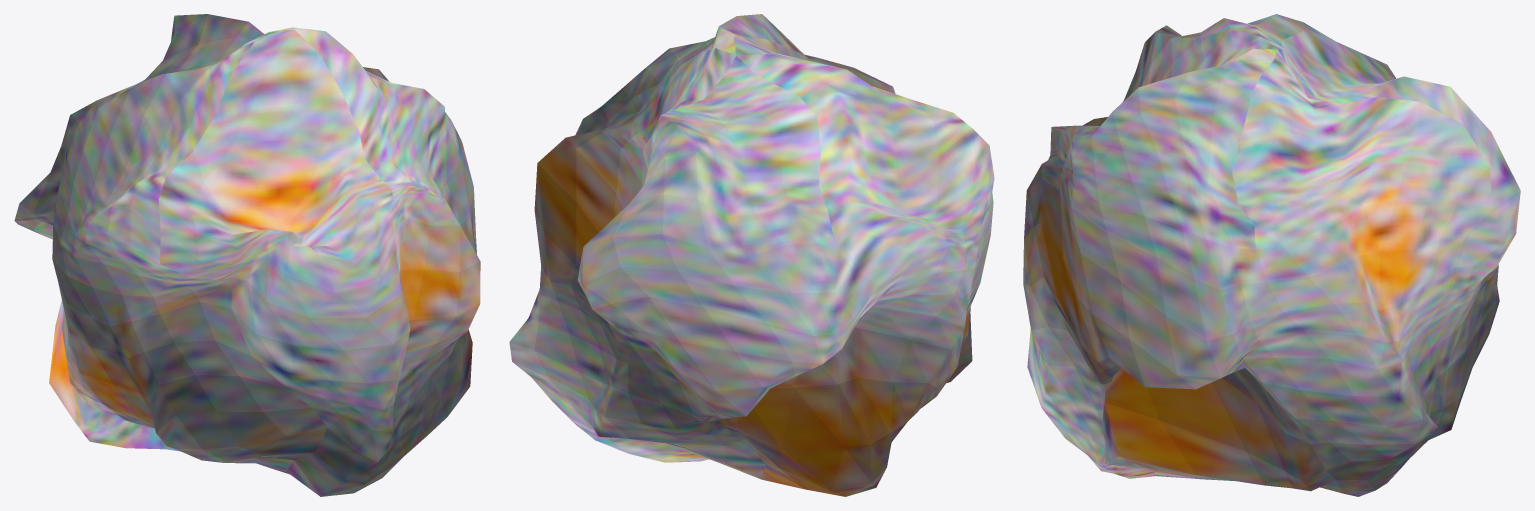
The picture shows the model from 3 angles, left to right: view 1: azimuth 30°, elevation 25°; view 2: azimuth 150°, elevation 25°; view 3: azimuth 270°, elevation 25°; orthographic projection. The views are drawn at different scales.
Parts seen in each view (by area): view 1: pMesh1; view 2: pMesh1; view 3: pMesh1.
Boxes of the visible parts, x1=… form: pMesh1: x1=14, y1=14, x2=480, y2=496; pMesh1: x1=509, y1=14, x2=994, y2=496; pMesh1: x1=1023, y1=14, x2=1520, y2=496.
Size of the model in its own units: 2.23 by 2.18 by 2.26.
1 material, 1 textured.
